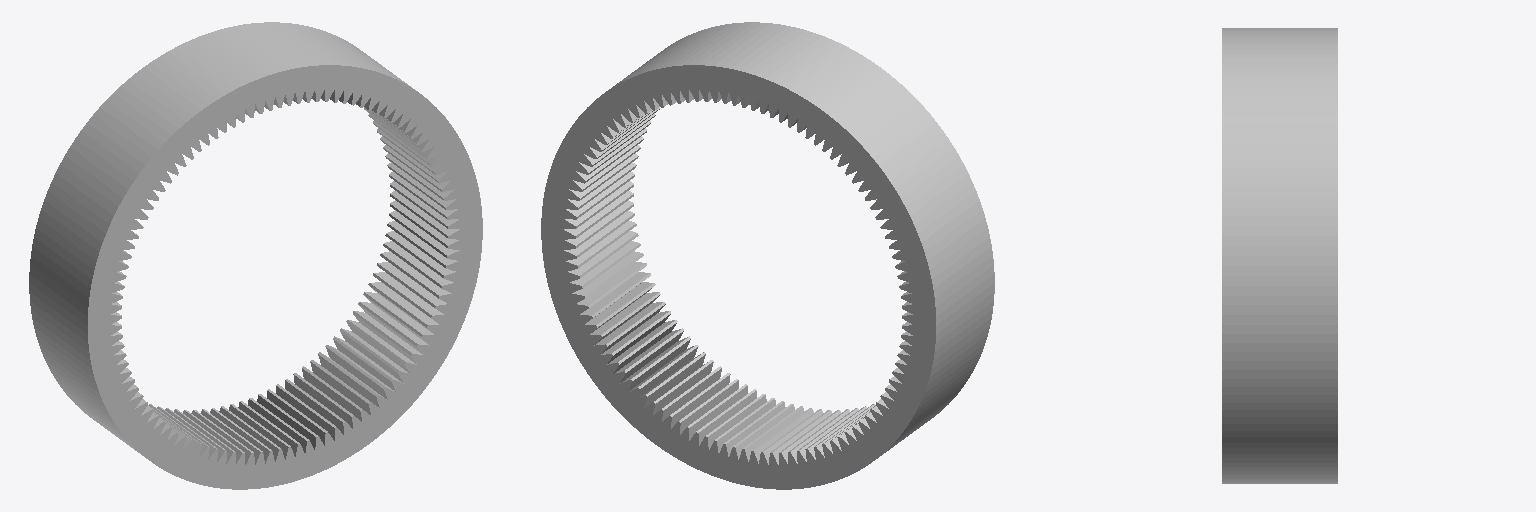
Rendered from Ring gear.obj.
3 views of the same model, side by side, from view 1: azimuth 30°, elevation 25°; view 2: azimuth 150°, elevation 25°; view 3: azimuth 270°, elevation 25° (orthographic).
Parts seen in each view (by area): view 1: mesh1, mesh0, mesh94, mesh71, mesh96, mesh69, mesh73, mesh67, mesh98, mesh92, mesh100; view 2: mesh2, mesh0, mesh94, mesh71, mesh96, mesh69, mesh73, mesh67, mesh98, mesh92, mesh100; view 3: mesh0.
Part boxes in pixels (x1,y1,x2,y2): mesh1: (88,65,482,489); mesh0: (29,22,417,458); mesh94: (310,362,370,414); mesh71: (374,272,443,315); mesh96: (302,368,361,421); mesh69: (378,262,446,305); mesh73: (371,282,438,324); mesh67: (381,251,451,295); mesh98: (293,374,352,428); mesh92: (318,354,379,407); mesh100: (285,380,343,434); mesh2: (541,65,935,489); mesh0: (606,22,994,458); mesh94: (653,362,713,414); mesh71: (580,272,649,315); mesh96: (662,368,721,421); mesh69: (577,262,645,305); mesh73: (585,282,652,324); mesh67: (572,251,642,295); mesh98: (671,374,730,428); mesh92: (644,354,705,407); mesh100: (680,380,738,434); mesh0: (1222,28,1337,483).
Size of the model in its own units: 0.0975 by 0.0975 by 0.025.